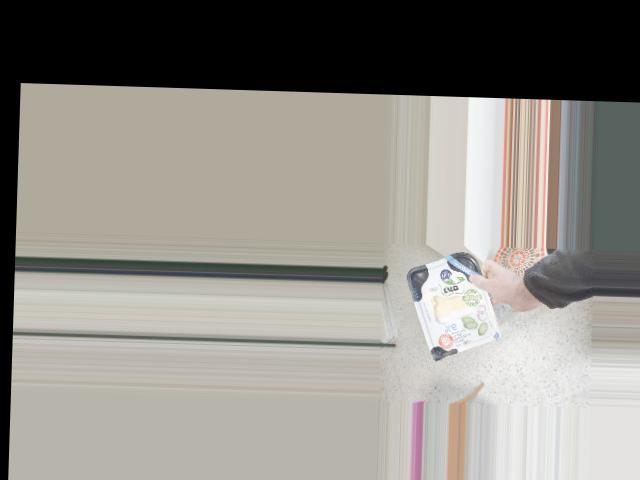cheese: (416, 261, 492, 351)
